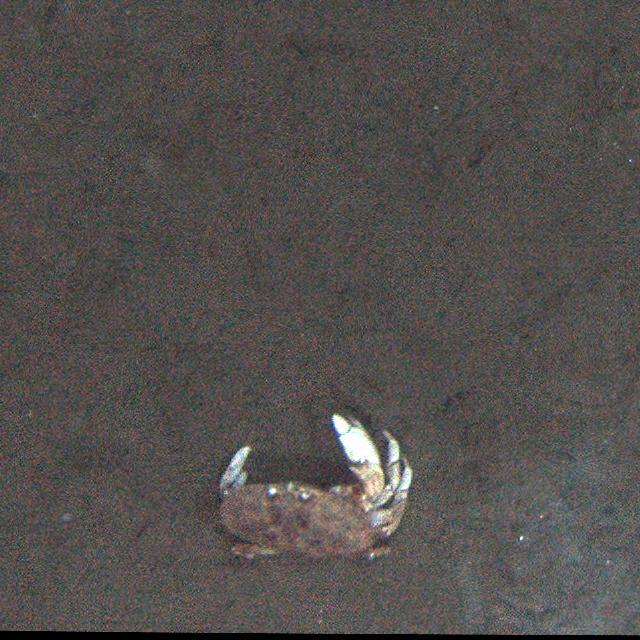crab: (212, 402, 418, 572)
